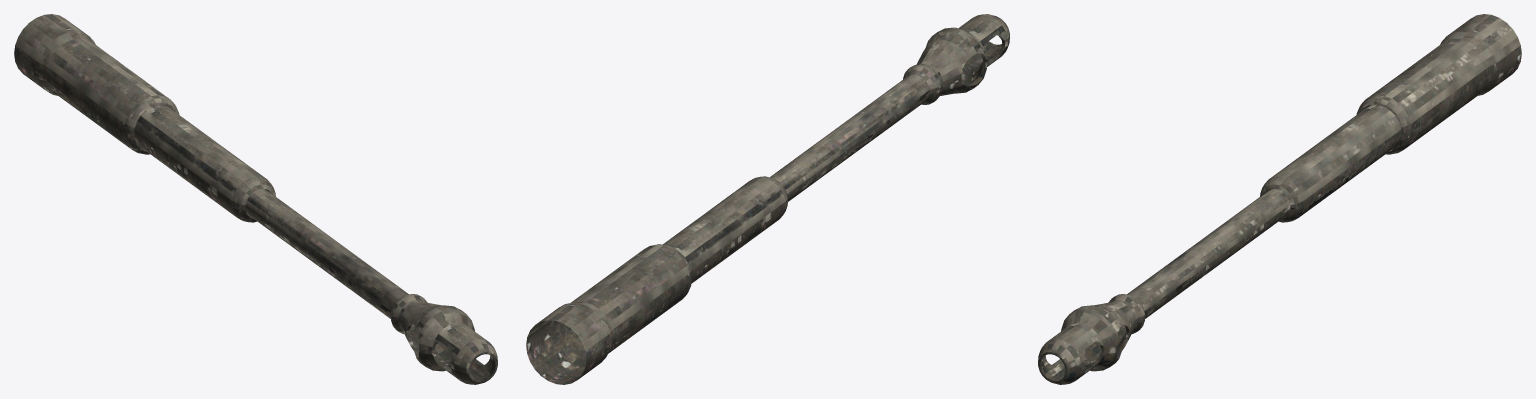
File: Gun.obj
The picture shows the model from 3 angles, left to right: view 1: azimuth 30°, elevation 25°; view 2: azimuth 150°, elevation 25°; view 3: azimuth 330°, elevation 25°; orthographic projection.
Visible parts, largest first — view 1: obj1; view 2: obj1; view 3: obj1.
Part boxes in pixels (box(x1,y1,x2,y2)): obj1: box(14, 14, 497, 384); obj1: box(526, 14, 1009, 384); obj1: box(1038, 14, 1521, 384).
Size of the model in its own units: 0.4581 by 0.4581 by 5.78.
Materials: 2 (2 with a texture image).
